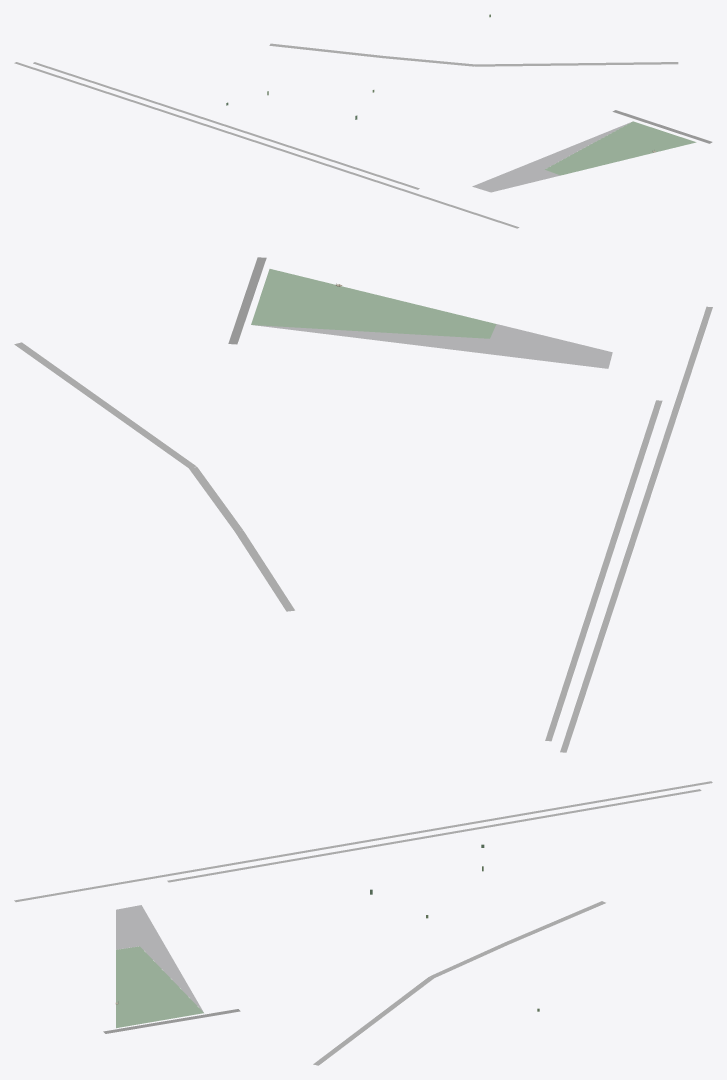
3 renders of one model, top to bottom at view 1: azimuth 30°, elevation 25°; view 2: azimuth 150°, elevation 25°; view 3: azimuth 270°, elevation 25°, orthographic. The views are drawn at different scales.
Size of the model in its own units: 730 by 6.53 by 752.
